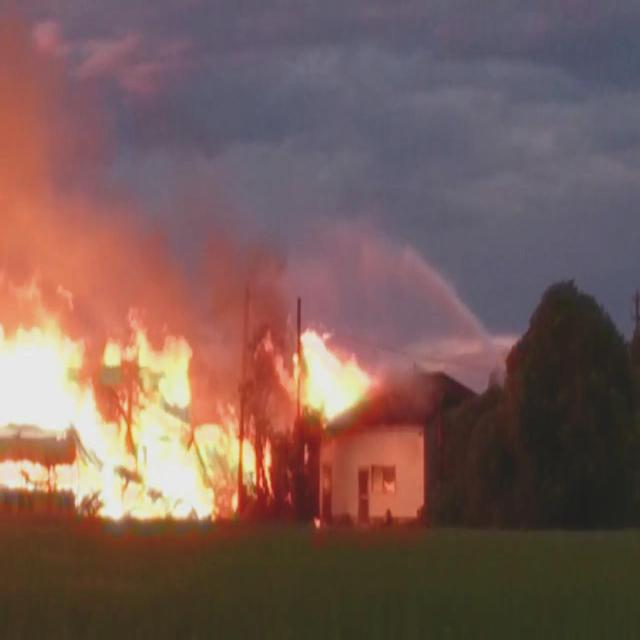Fire: (2, 281, 275, 523), (272, 319, 372, 419)
